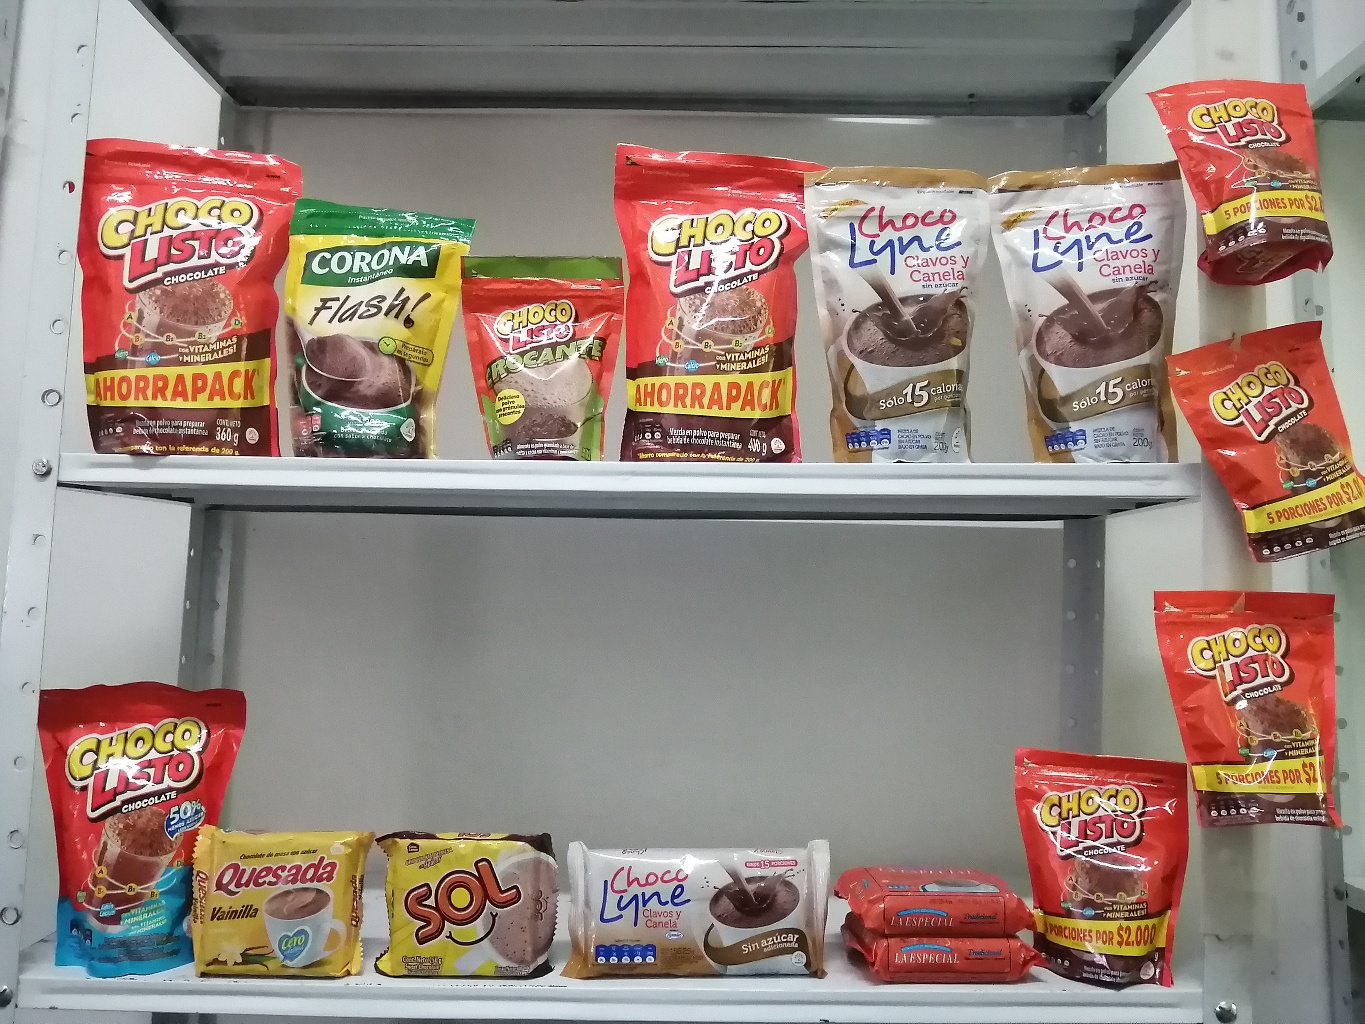COL0170102DYP10000: (458, 237, 634, 471)
COL0170103DYP10000: (1151, 68, 1340, 304)
COL0170103DYP36000: (77, 125, 311, 456)
COL0170103DYP40000: (611, 127, 825, 461)
COL0170104DYP20000: (24, 662, 246, 982)
